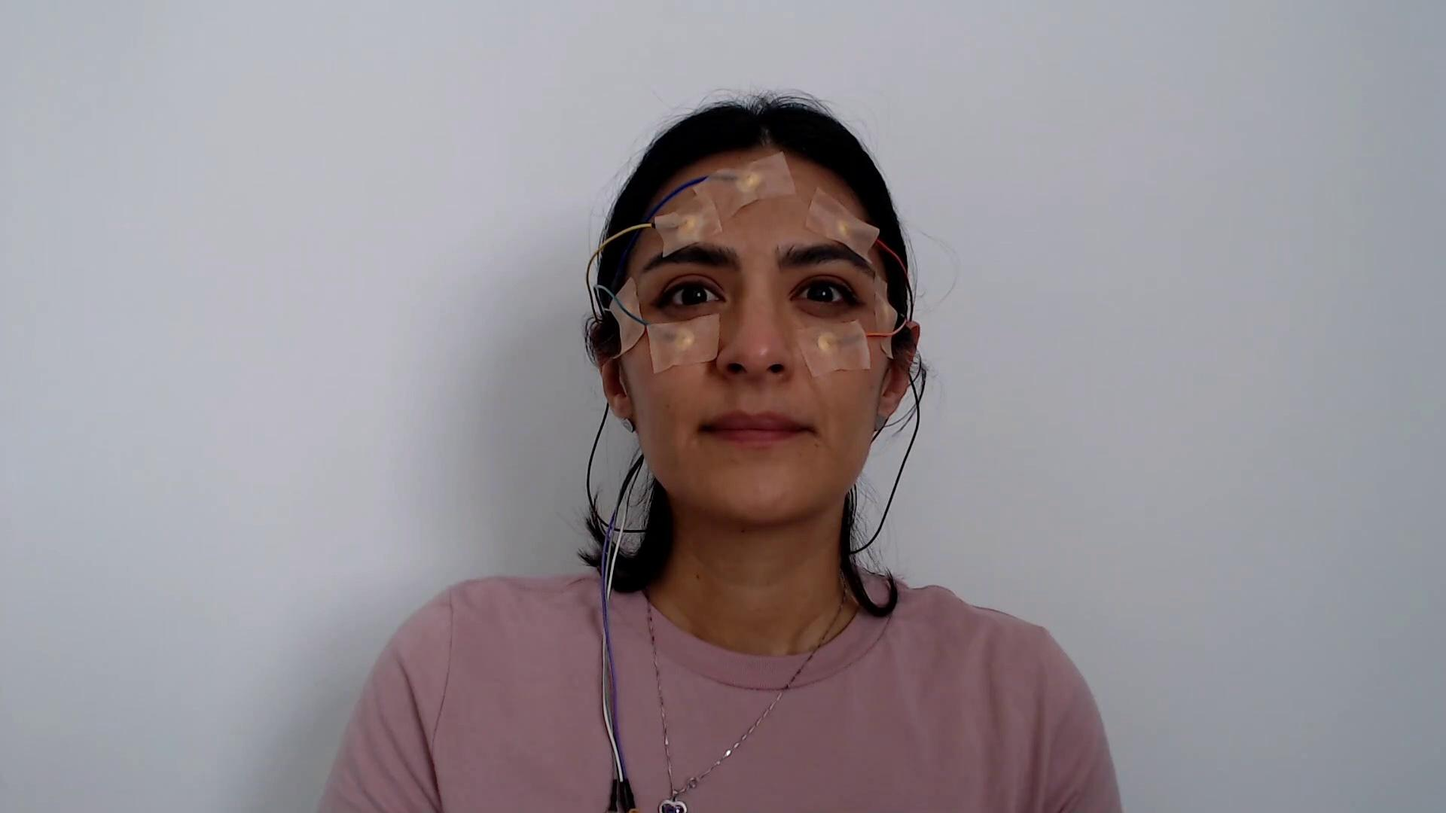Iris: (681, 285, 707, 306), (807, 284, 833, 303)
Ojos: (655, 273, 727, 311), (788, 273, 864, 308)
